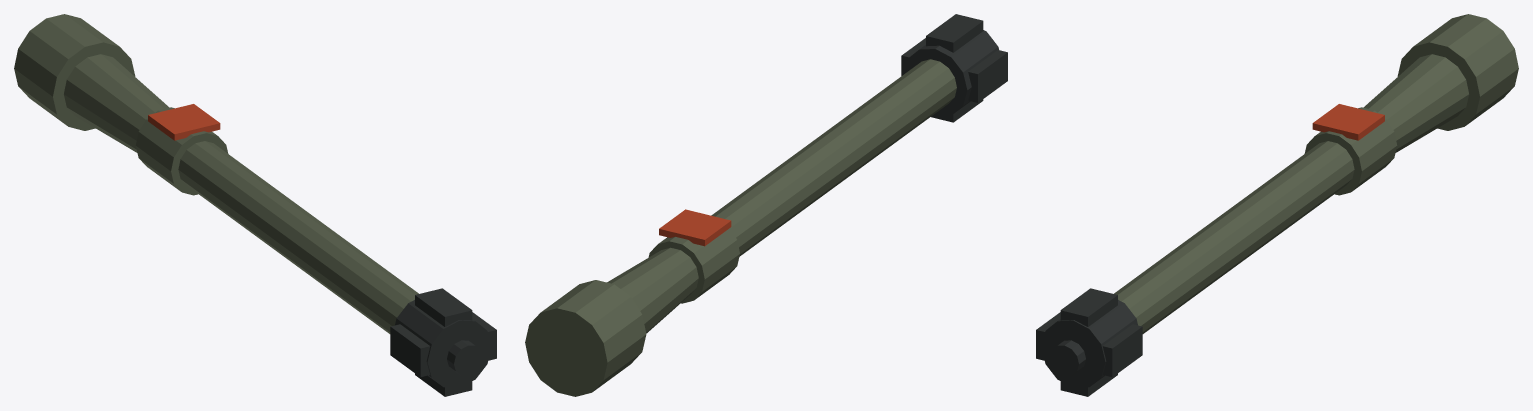
File: Bastion_MT12_Cannon.obj
3 views of the same model, side by side, from view 1: azimuth 30°, elevation 25°; view 2: azimuth 150°, elevation 25°; view 3: azimuth 330°, elevation 25° (orthographic).
Parts seen in each view (by area): view 1: Bastion_MT12_Cannon; view 2: Bastion_MT12_Cannon; view 3: Bastion_MT12_Cannon.
Part boxes in pixels (x1,y1,x2,y2): Bastion_MT12_Cannon: (14, 14, 496, 396); Bastion_MT12_Cannon: (525, 14, 1007, 396); Bastion_MT12_Cannon: (1036, 14, 1518, 396).
Size of the model in its own units: 0.54 by 0.5265 by 4.68.
1 material, 1 textured.
